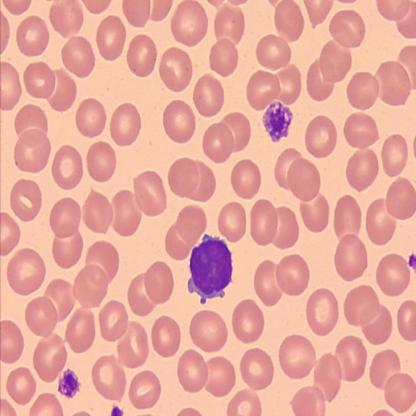Lymphocyte: (187, 234, 233, 304)
